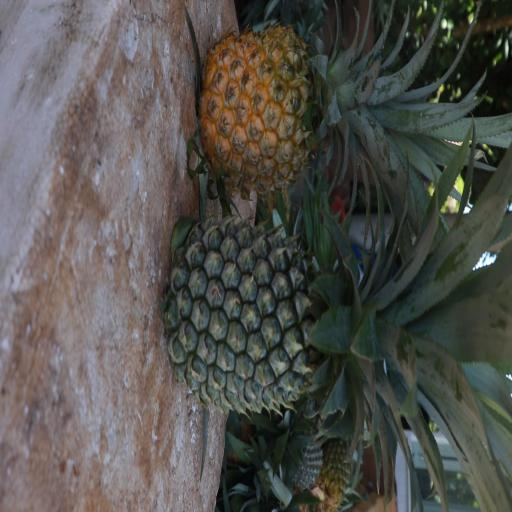Pineapple - v8 v1: (204, 27, 470, 191)
